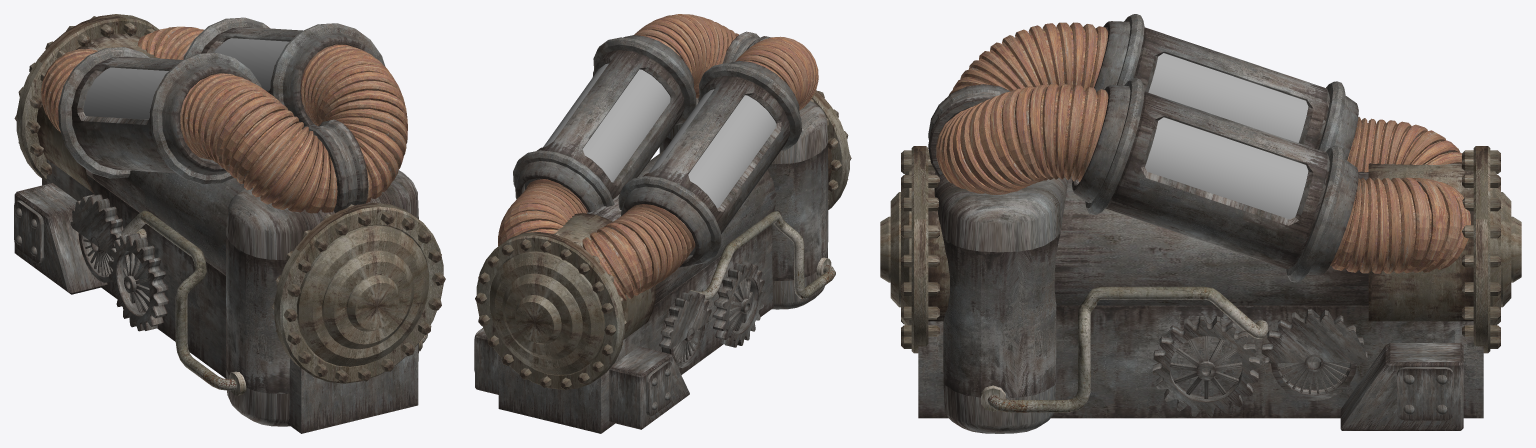
The model's file is static.fbx.
3 renders of one model, left to right at view 1: azimuth 30°, elevation 25°; view 2: azimuth 150°, elevation 25°; view 3: azimuth 270°, elevation 25°, orthographic. The views are drawn at different scales.
Parts seen in each view (by area): view 1: Extrude_5, Cube_42, Tube_4, Cylinder_3, Cylinder_0, Cylinder_Cube, Cylinder_1, Cylinder_2, Tube_3, Cylinder_1_2_2, Cube_41, Sweep (+25 smaller); view 2: Cylinder_Cube, Cylinder_2, Cube_42, Extrude_5, Cylinder_3, Tube_4, Cylinder_0, Cube_41, Tube_3, Cylinder_1_2_2, Cylinder_1, Sweep (+25 smaller); view 3: Cube_42, Extrude_5, Cylinder_Cube, Cylinder_1, Cylinder_2, Cylinder_1_4_2, Tube_4, Tube_3, Cylinder_3, Cube_41, Sweep, Sweep_2 (+27 smaller).
Part boxes in pixels (bbox=[...]): Extrude_5: bbox=[226, 170, 418, 426]; Cube_42: bbox=[42, 159, 418, 433]; Tube_4: bbox=[16, 14, 443, 383]; Cylinder_3: bbox=[58, 17, 385, 184]; Cylinder_0: bbox=[297, 225, 428, 366]; Cylinder_Cube: bbox=[71, 27, 302, 173]; Cylinder_1: bbox=[92, 170, 244, 274]; Cylinder_2: bbox=[83, 38, 289, 119]; Tube_3: bbox=[162, 32, 377, 175]; Cylinder_1_2_2: bbox=[322, 250, 414, 349]; Cube_41: bbox=[14, 183, 107, 294]; Sweep: bbox=[120, 210, 427, 390]; Cylinder_Cube: bbox=[537, 50, 790, 233]; Cylinder_2: bbox=[543, 63, 775, 207]; Cube_42: bbox=[498, 224, 774, 433]; Extrude_5: bbox=[659, 98, 828, 309]; Cylinder_3: bbox=[513, 37, 801, 265]; Tube_4: bbox=[476, 90, 849, 389]; Cylinder_0: bbox=[489, 251, 604, 375]; Cube_41: bbox=[475, 329, 689, 429]; Tube_3: bbox=[515, 35, 799, 267]; Cylinder_1_2_2: bbox=[502, 273, 582, 359]; Cylinder_1: bbox=[587, 150, 775, 303]; Sweep: bbox=[690, 211, 835, 300]; Cube_42: bbox=[918, 305, 1483, 418]; Extrude_5: bbox=[934, 171, 1067, 433]; Cylinder_Cube: bbox=[1105, 27, 1329, 268]; Cylinder_1: bbox=[1054, 171, 1368, 305]; Cylinder_2: bbox=[1145, 53, 1308, 219]; Cylinder_1_4_2: bbox=[928, 163, 1473, 321]; Tube_4: bbox=[911, 146, 1490, 353]; Tube_3: bbox=[1072, 21, 1358, 275]; Cylinder_3: bbox=[1085, 14, 1345, 282]; Cube_41: bbox=[1340, 343, 1463, 430]; Sweep: bbox=[987, 286, 1267, 412]; Sweep_2: bbox=[973, 27, 1452, 267].
Size of the model in its own units: 205 by 263 by 445.
5 materials, 5 textured.
